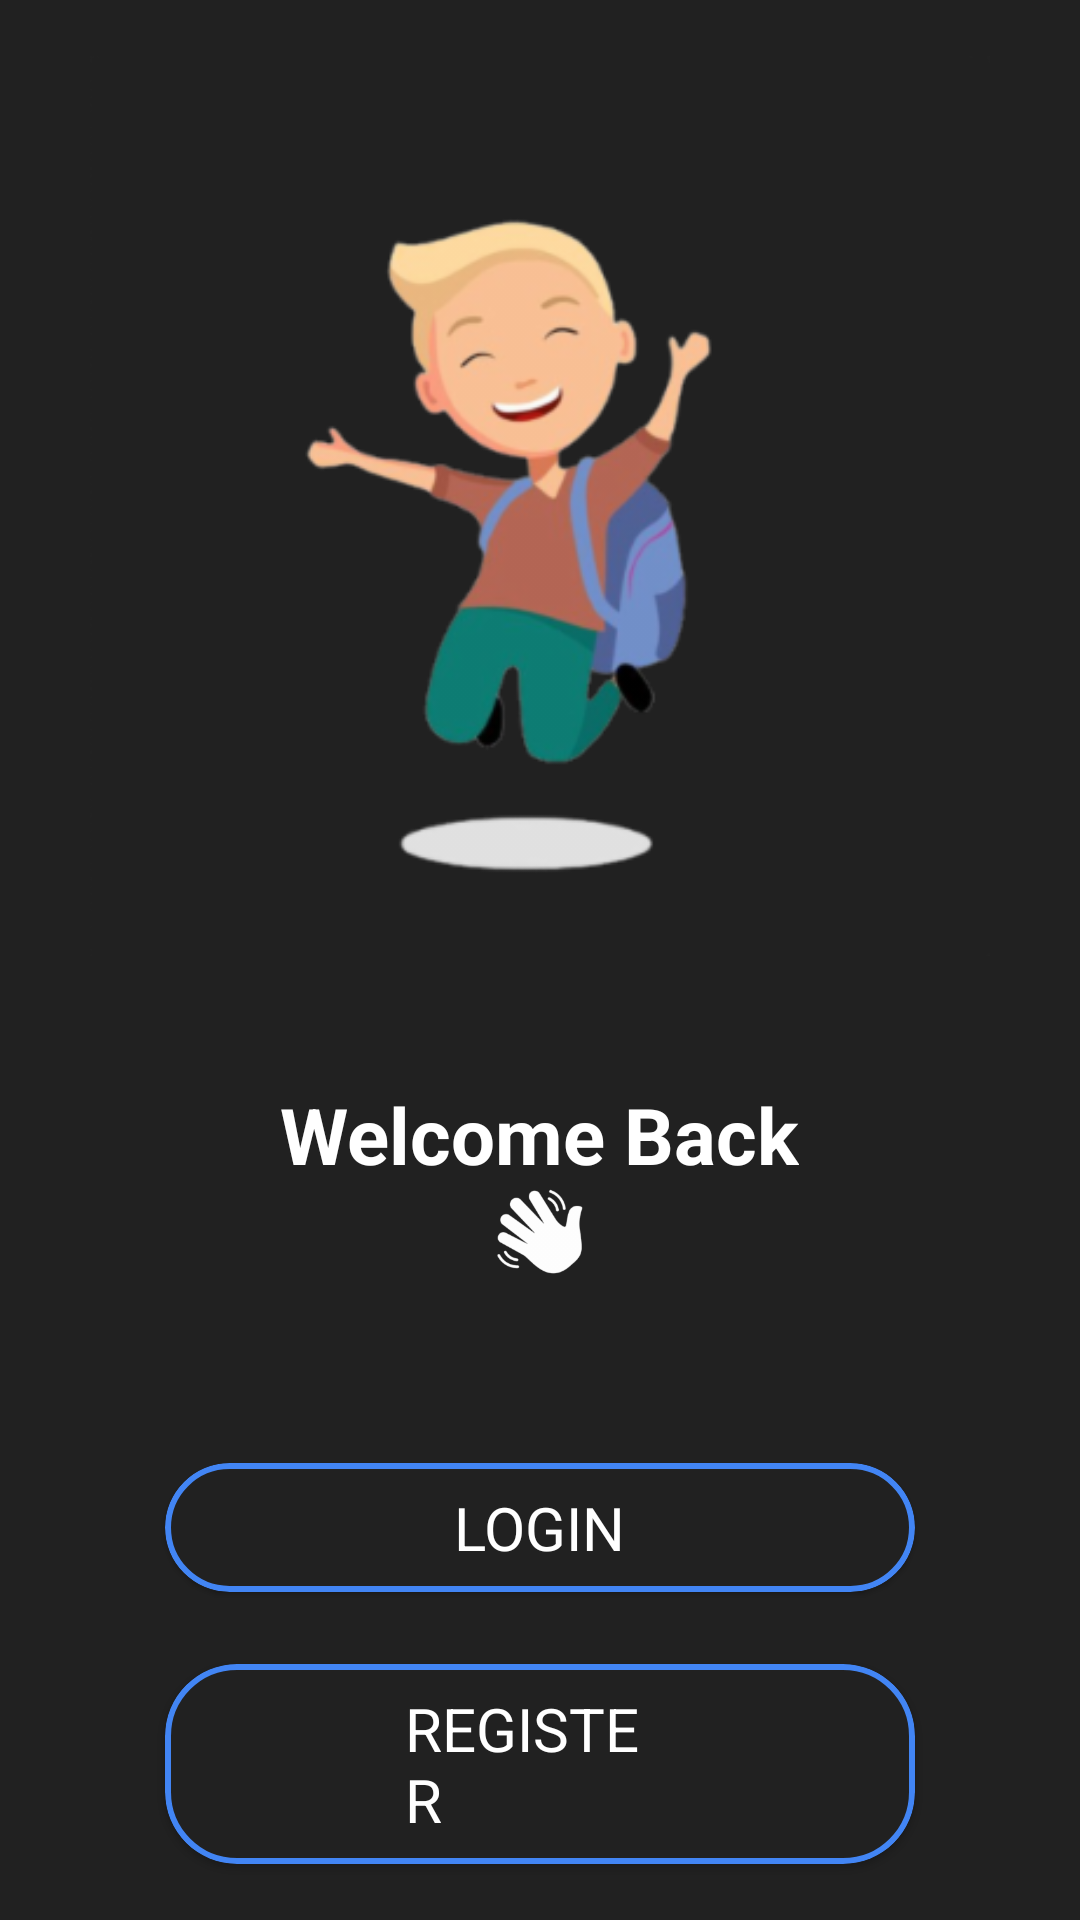

Screen size 1080px x 1920px. Icon name, then its box in pixels as (x1=x1, y1=y1, x2=x2, y2=y2):
waving hand: (x1=497, y1=1190, x2=583, y2=1274)
